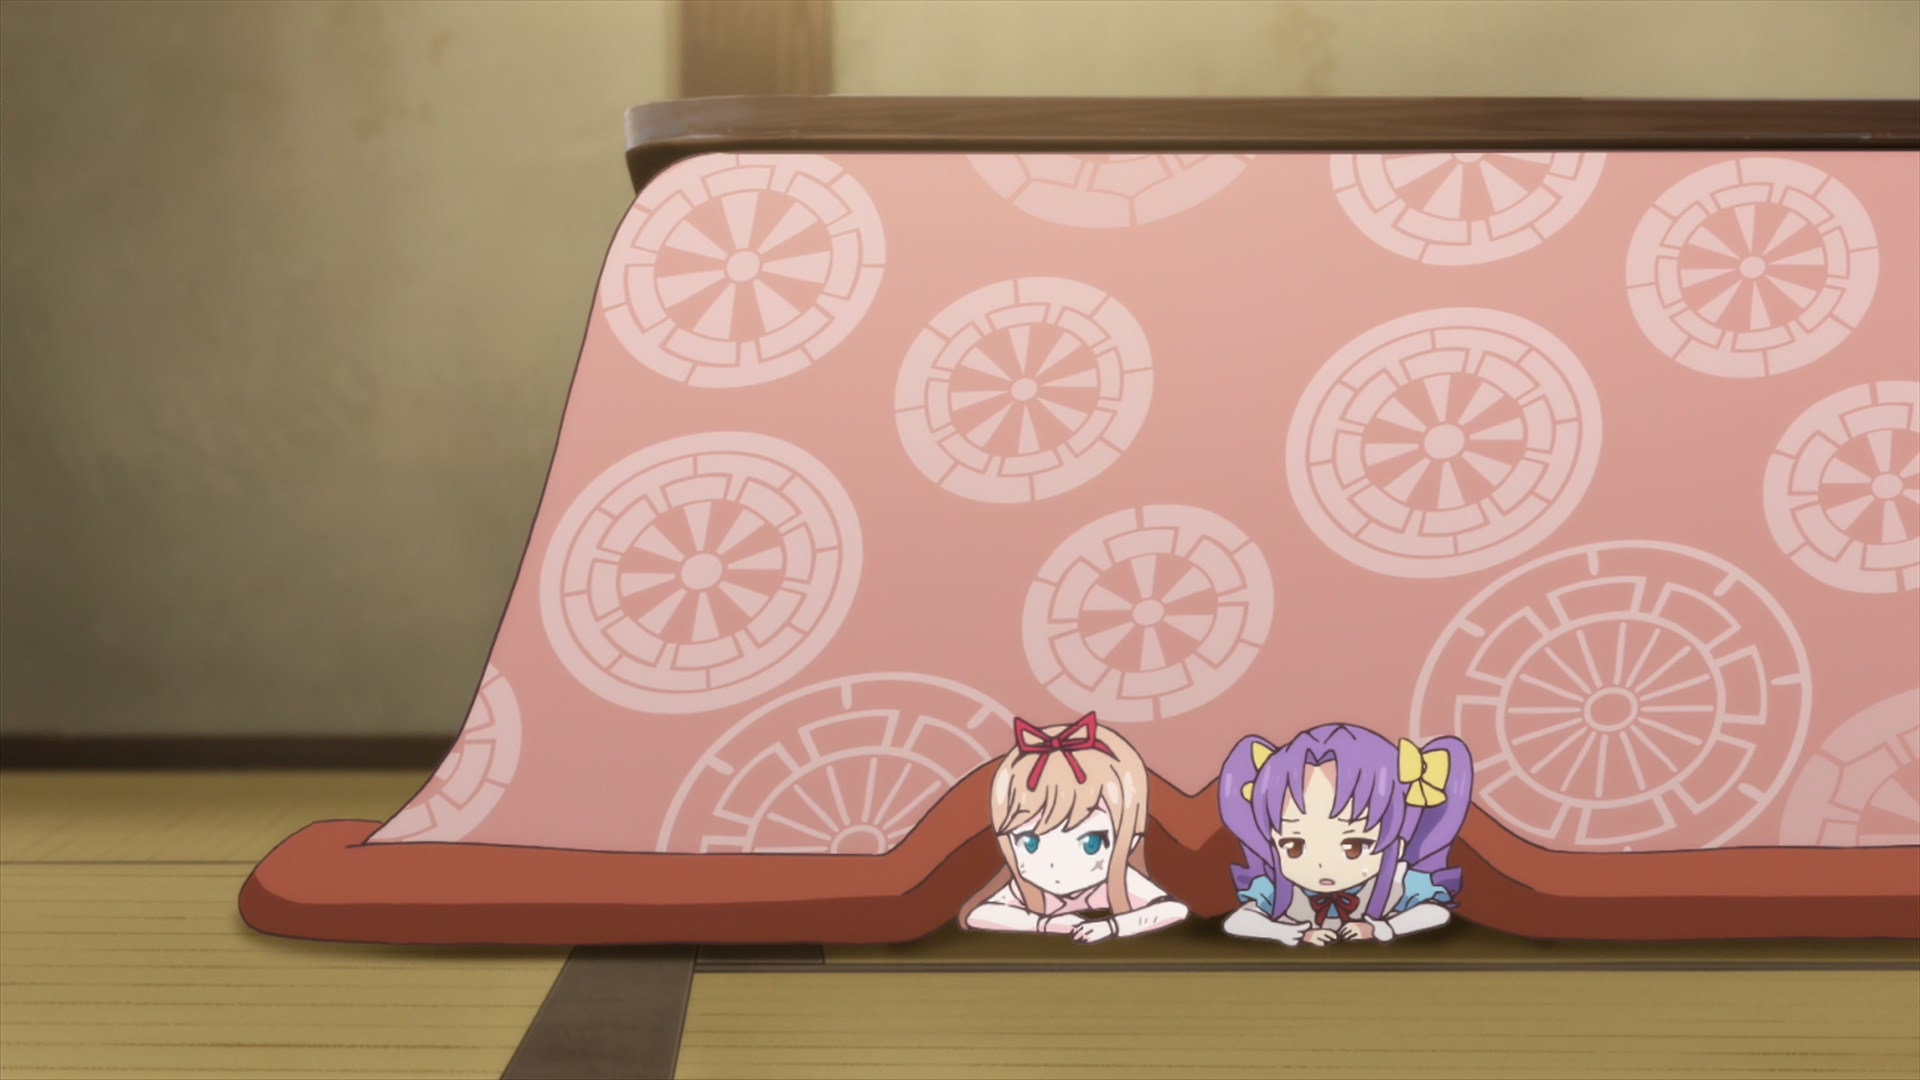其他: (960, 713, 1187, 945)
阿菊: (1218, 723, 1474, 953)
